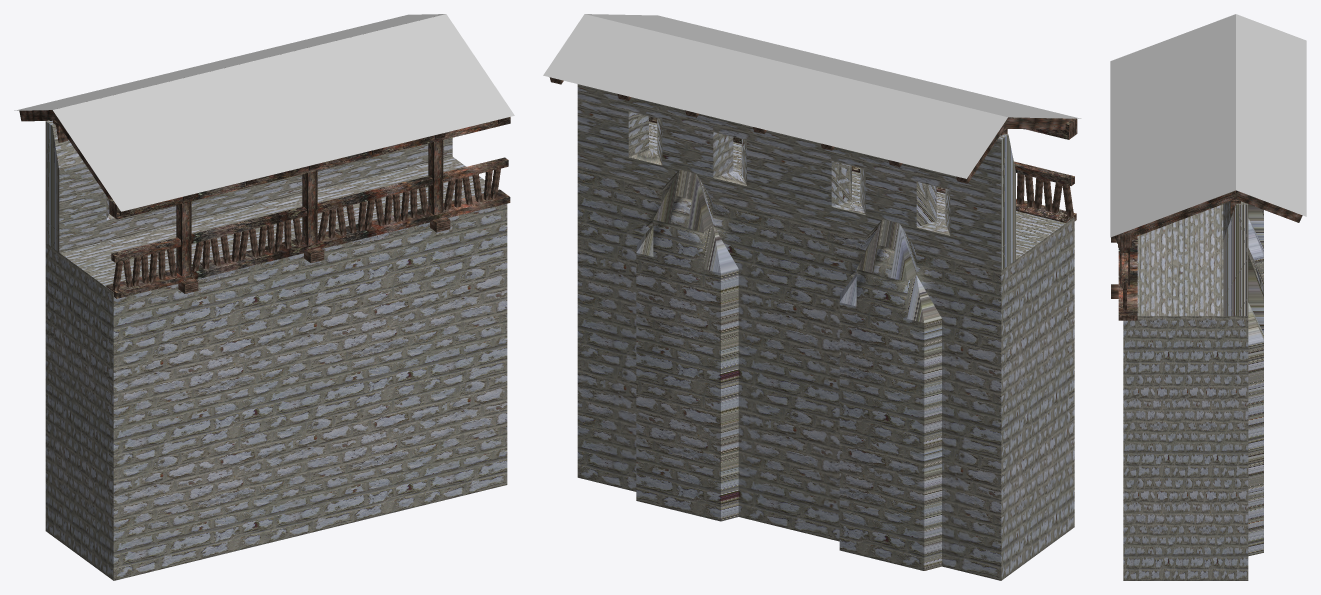
Rendered from WallLowPoly.FBX.
The picture shows the model from 3 angles, left to right: view 1: azimuth 30°, elevation 25°; view 2: azimuth 150°, elevation 25°; view 3: azimuth 270°, elevation 25°; orthographic projection. The views are drawn at different scales.
Parts seen in each view (by area): view 1: Wall, FloorBig, UnderBar, MiddleBar, FloorSmall2, OverBar, VBar3, VBar2, VBar1; view 2: Wall, FloorSmall2, FloorBig, UnderBar, DiagConBar1, MiddleBar; view 3: Wall, FloorBig, FloorSmall2, DiagConBar006, UnderBar, DiagOutBar007, MiddleBar.
Part boxes in pixels (box(x1,y1,x2,y2)): Wall: box(45, 120, 507, 580); FloorBig: box(53, 14, 514, 211); UnderBar: box(106, 189, 510, 298); MiddleBar: box(111, 157, 508, 262); FloorSmall2: box(14, 14, 445, 110); OverBar: box(109, 117, 510, 219); VBar3: box(428, 140, 443, 214); VBar2: box(302, 170, 317, 245); VBar1: box(176, 201, 191, 276); Wall: box(577, 84, 1074, 580); FloorSmall2: box(543, 14, 1007, 178); FloorBig: box(585, 14, 1081, 118); UnderBar: box(649, 116, 1076, 222); DiagConBar1: box(1004, 117, 1072, 129); MiddleBar: box(1014, 161, 1074, 185); Wall: box(1123, 201, 1263, 580); FloorBig: box(1110, 14, 1235, 237); FloorSmall2: box(1236, 14, 1306, 216); DiagConBar006: box(1114, 190, 1237, 243); UnderBar: box(1118, 236, 1137, 320); DiagOutBar007: box(1234, 190, 1302, 222); MiddleBar: box(1121, 253, 1128, 288).
Bounding box in the file's own units: 50.06 × 51.71 × 23.58.
